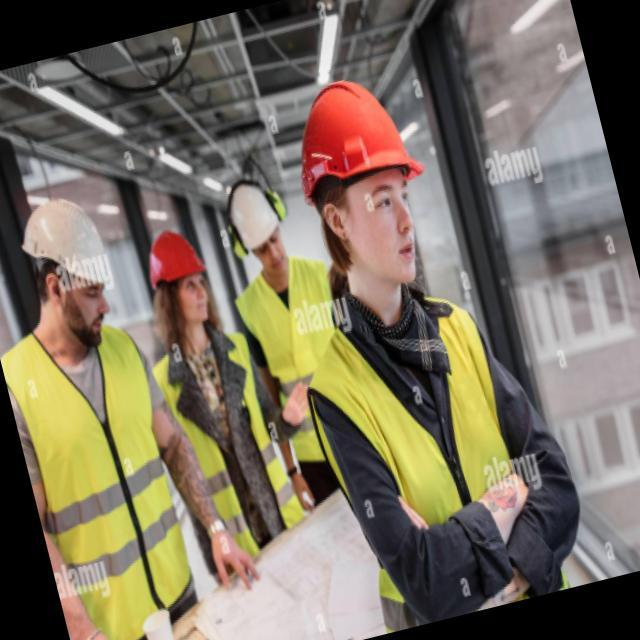hard_hat: (279, 63, 450, 306), (11, 182, 133, 359), (138, 214, 223, 347), (223, 175, 296, 290)
vest: (281, 275, 552, 640), (0, 296, 213, 640), (142, 319, 311, 565), (223, 243, 381, 488)
